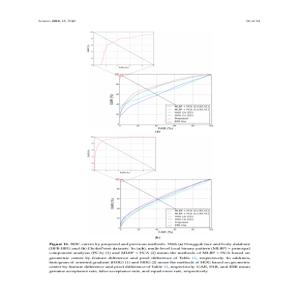diagram: (61, 29, 242, 236)
text: (48, 239, 253, 275)
